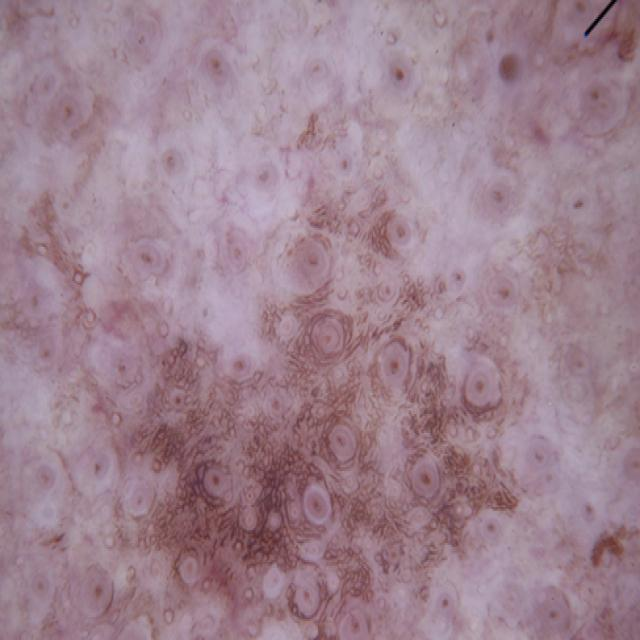Keratosis: (120, 252, 512, 640)
